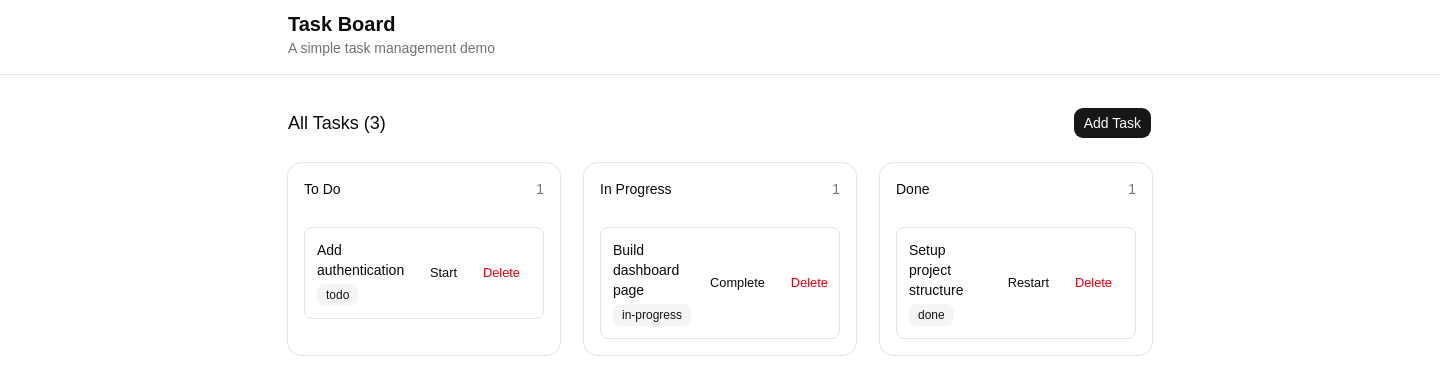
Test: App › deletes a task
This screenshot has width=1440, height=373.
Expected: the text "Add authentication" is shown, left=317, top=240, right=411, bottom=280
Find the task card containing "Add authentication" and click its Delete button
Step 1. Click the button "Delete" below "Add authentication" → (502,273), box left=472, top=259, right=531, bottom=287
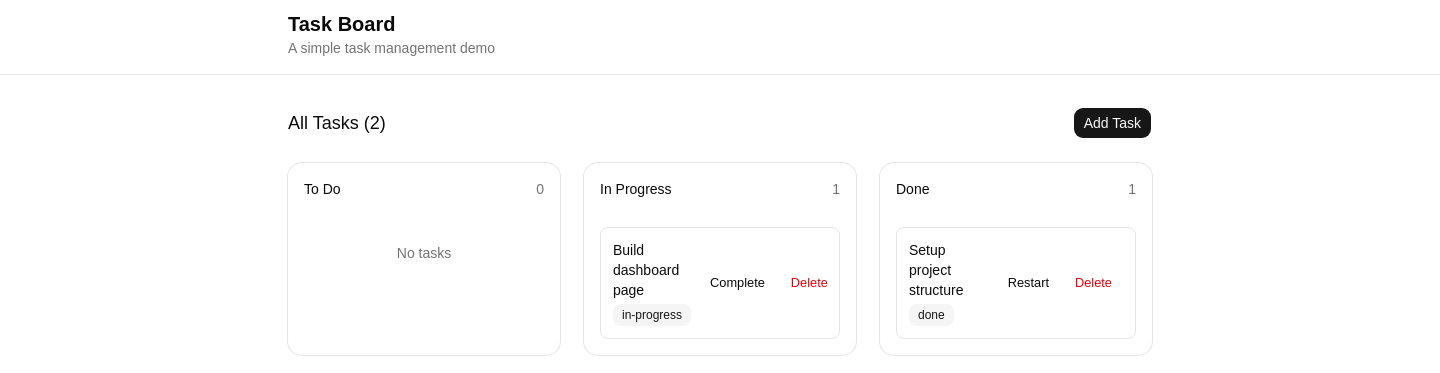
Expected: the text "Add authentication" is gone
